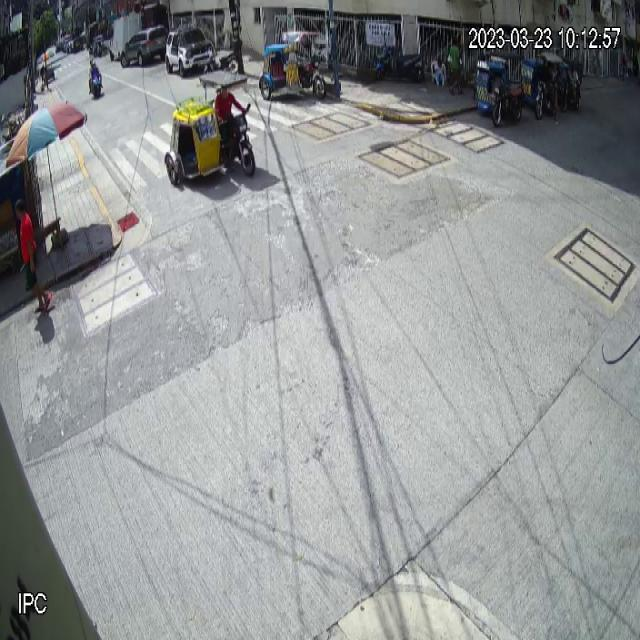Tricycle: (163, 67, 256, 189), (258, 31, 326, 101), (474, 51, 523, 128)
